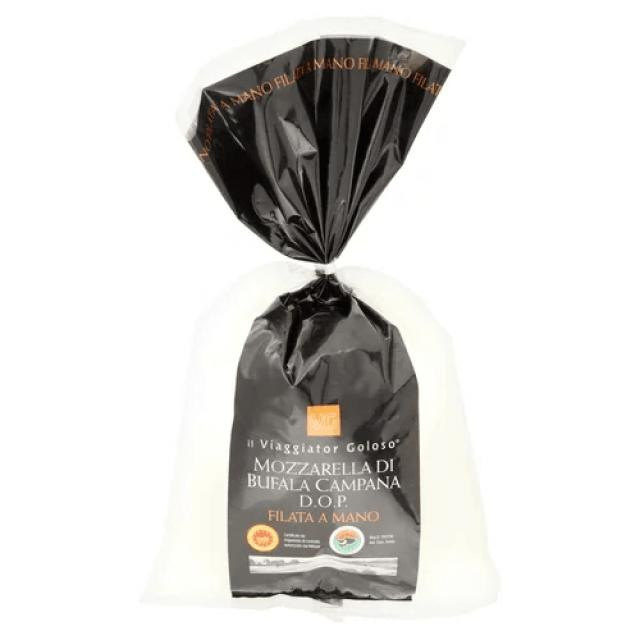Cheese: (145, 22, 499, 621)
